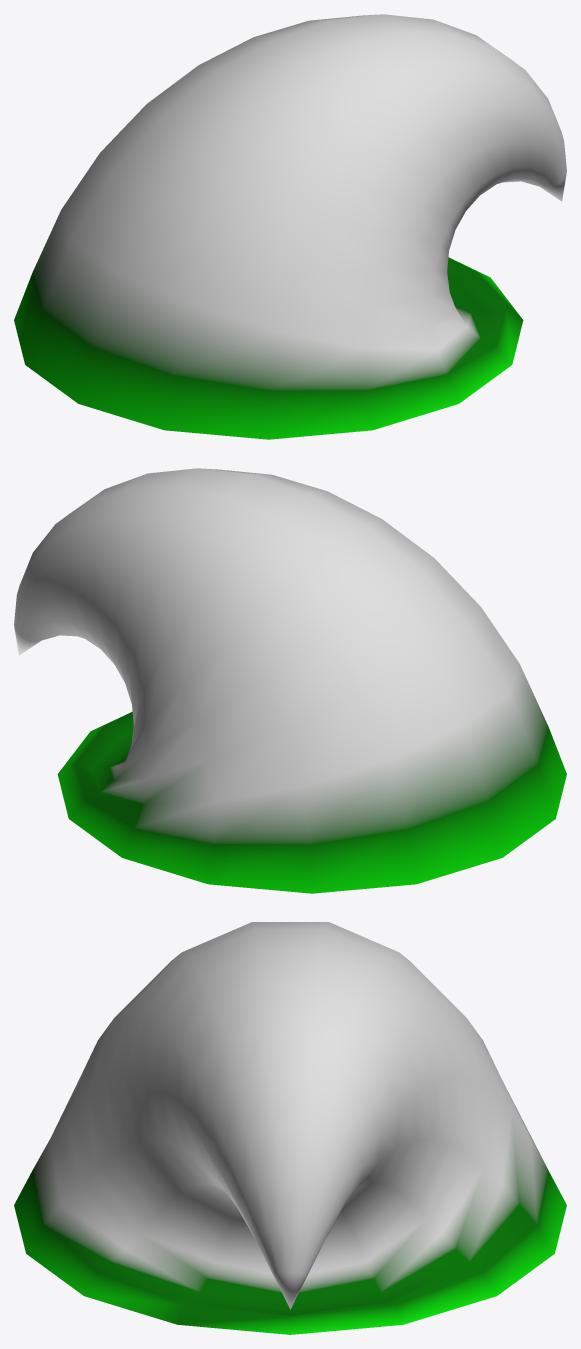
The model's file is TsunamiCone.fbx.
3 views of the same model, one above another, from view 1: azimuth 30°, elevation 25°; view 2: azimuth 150°, elevation 25°; view 3: azimuth 270°, elevation 25° (orthographic). The views are drawn at different scales.
Parts seen in each view (by area): view 1: TsunamiCone1; view 2: TsunamiCone1; view 3: TsunamiCone1.
Part boxes in pixels (x1,y1,x2,y2): TsunamiCone1: [14, 14, 566, 439]; TsunamiCone1: [14, 468, 566, 893]; TsunamiCone1: [14, 922, 566, 1334].
Bounding box in the file's own units: 231 × 121 × 199.
